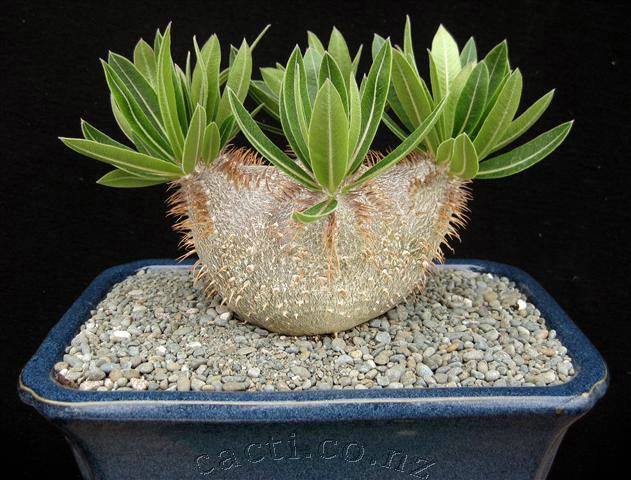Pachypodium rosulatum: (65, 18, 566, 343)
